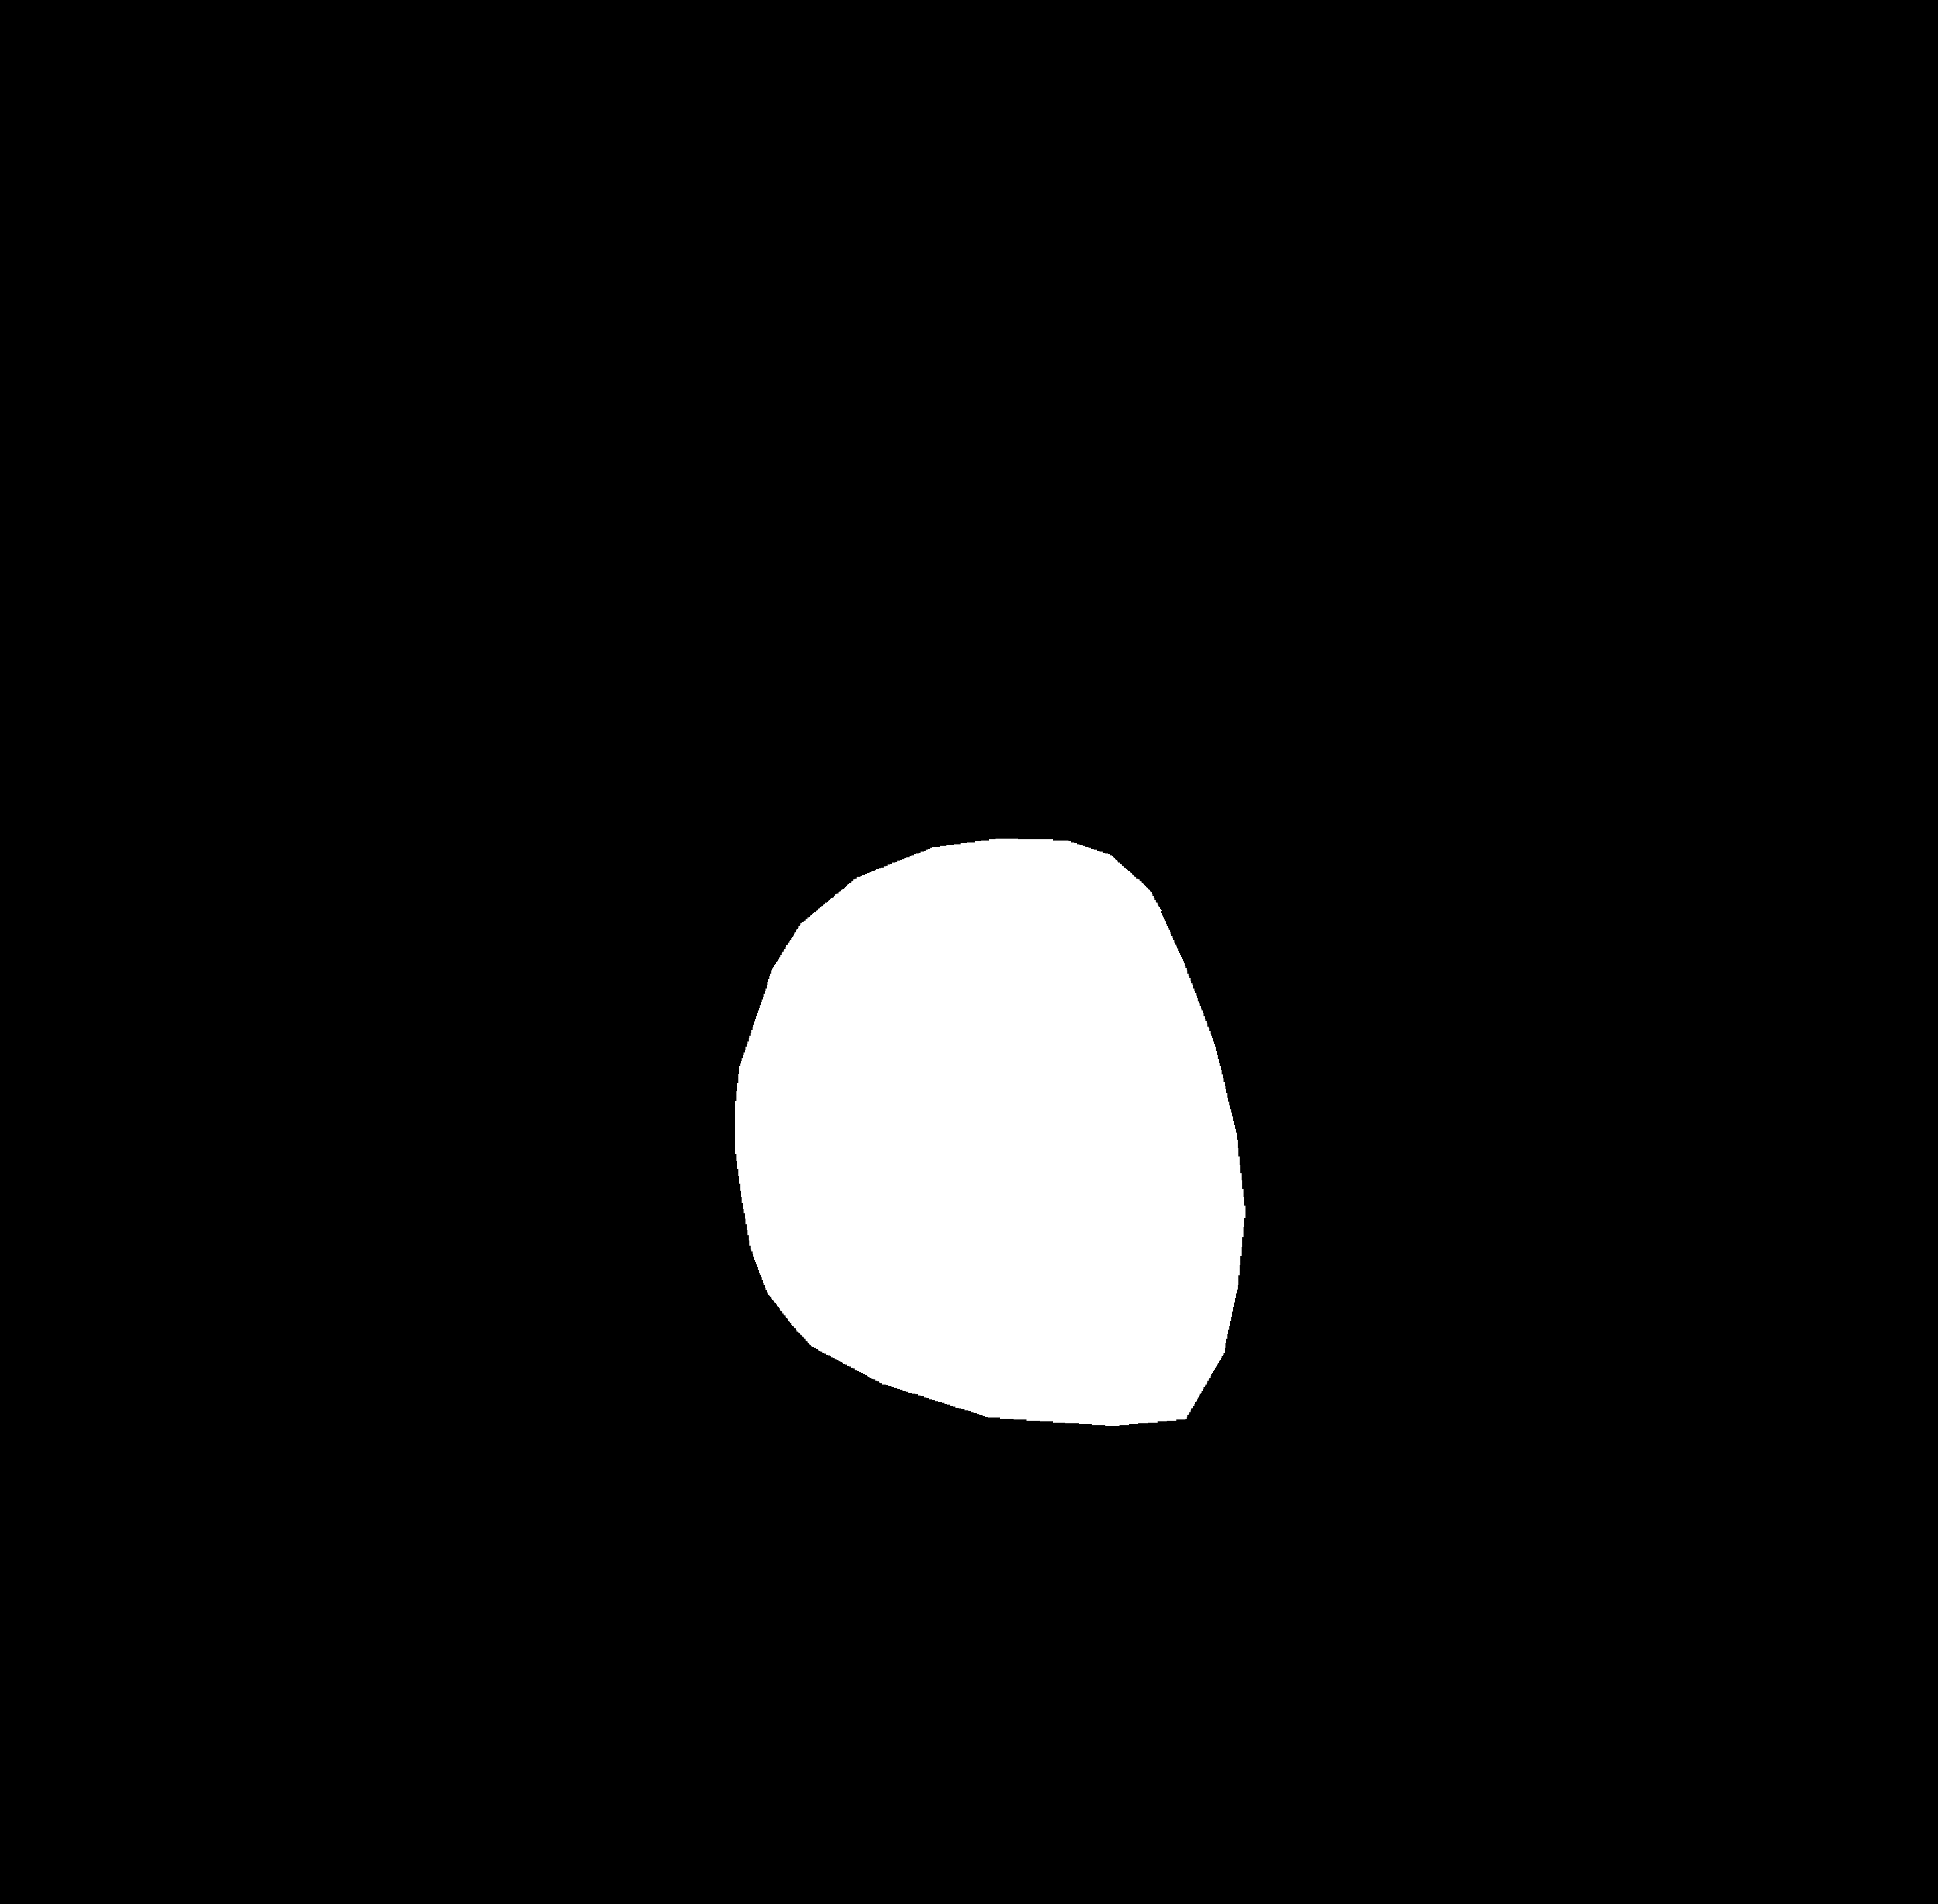heart: (732, 907, 1244, 1412)
left_lung: (265, 82, 901, 1667)
right_lung: (1037, 63, 1553, 1660)
